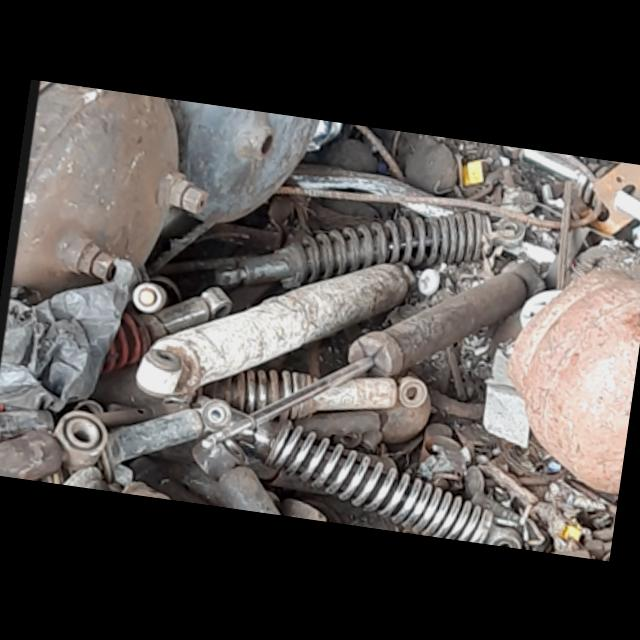Shock Absorber: (198, 401, 523, 549), (210, 212, 530, 285), (184, 368, 428, 419)
